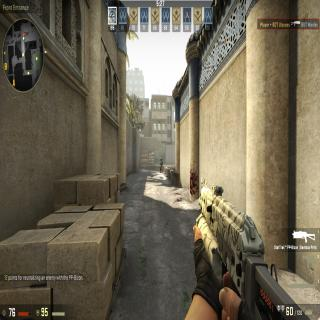CT-Body: (159, 158, 163, 173)
CT-Head: (160, 158, 162, 161)
